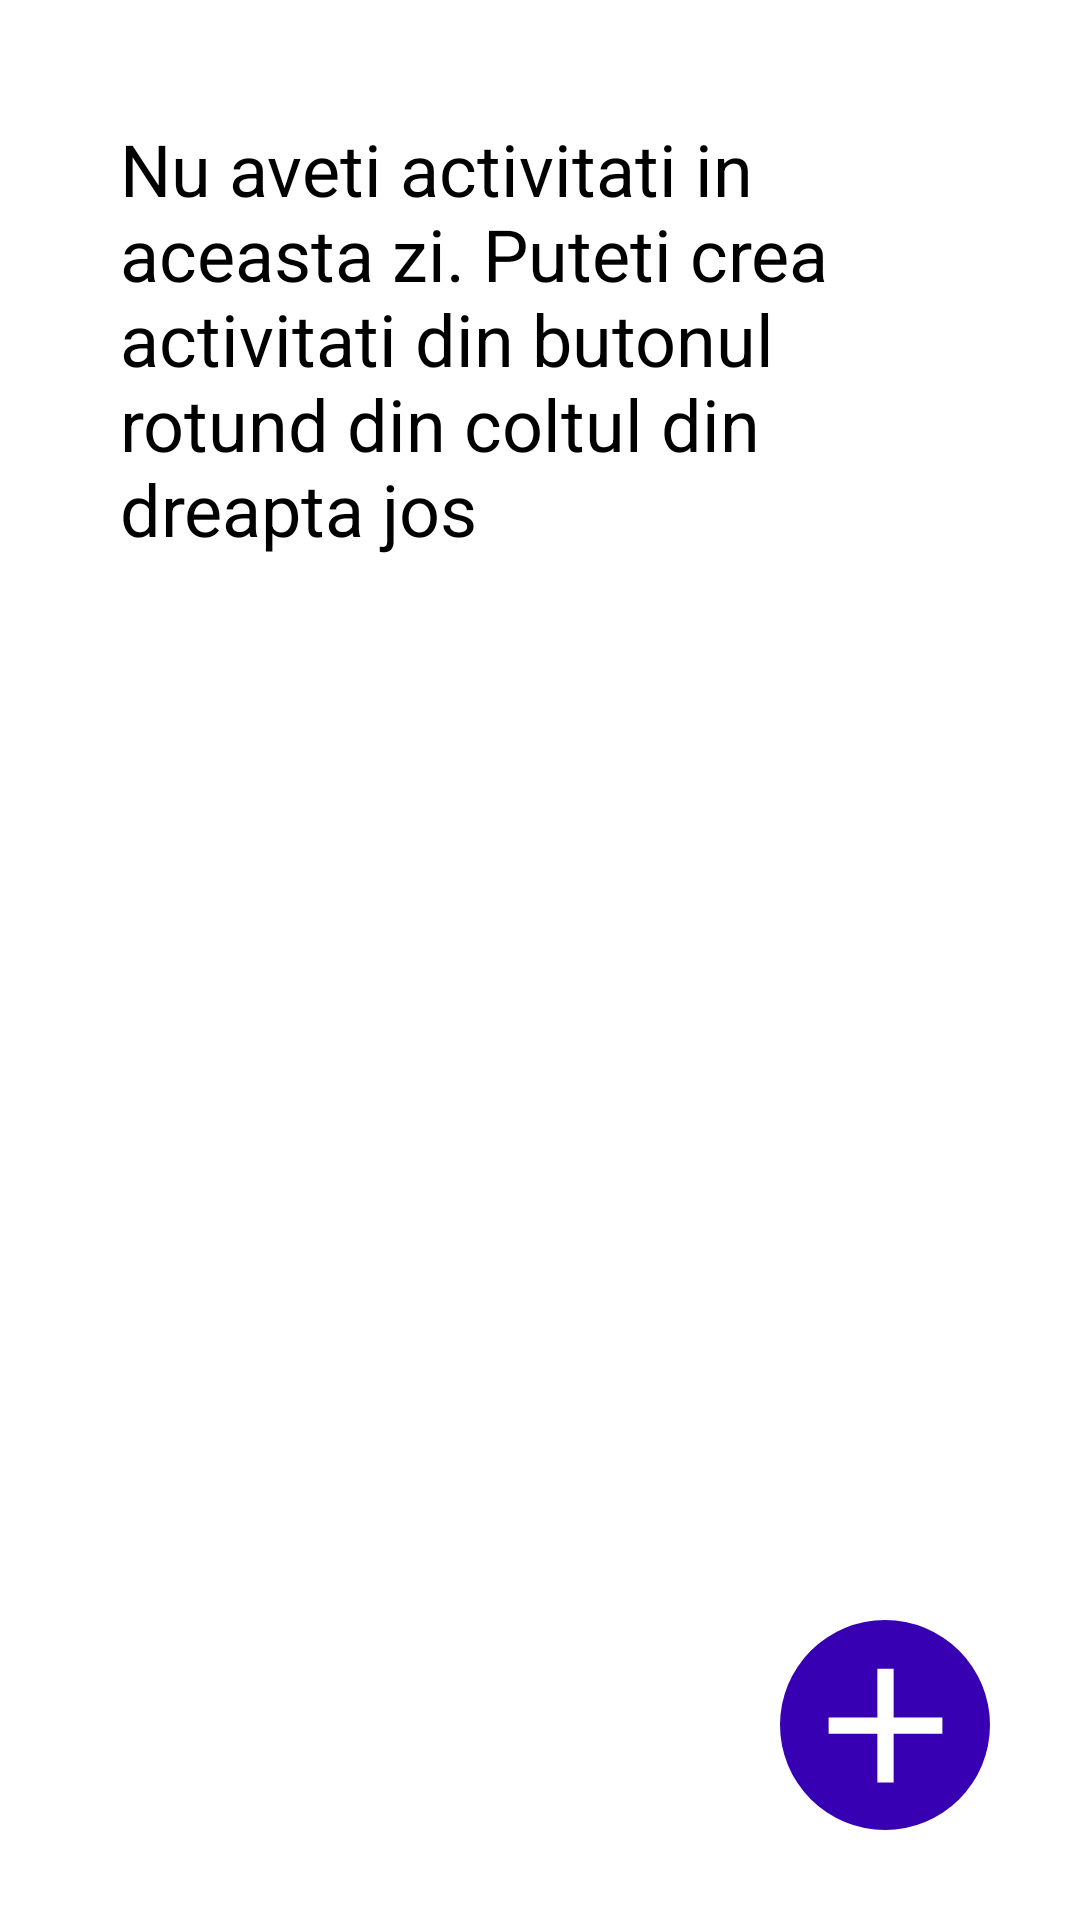

Icons on this 1080 × 1920 Android screen, each with the point to tap as (x,y):
add: (885,1725)
